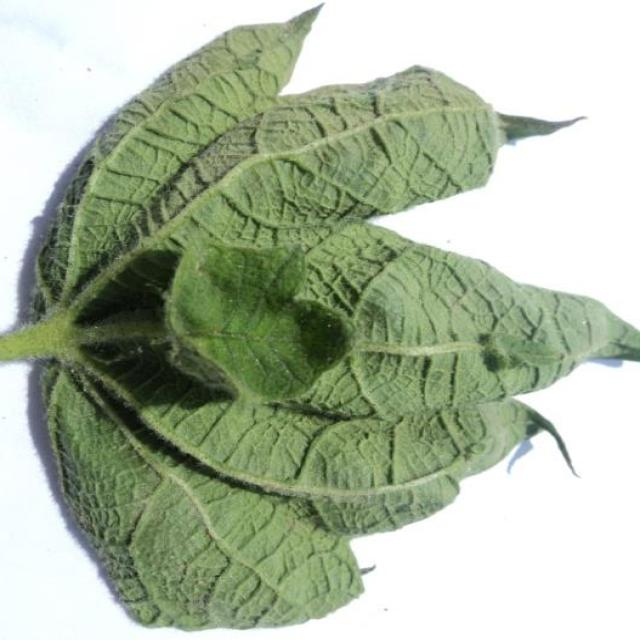Leaf Curl Virus: (63, 51, 529, 608)
